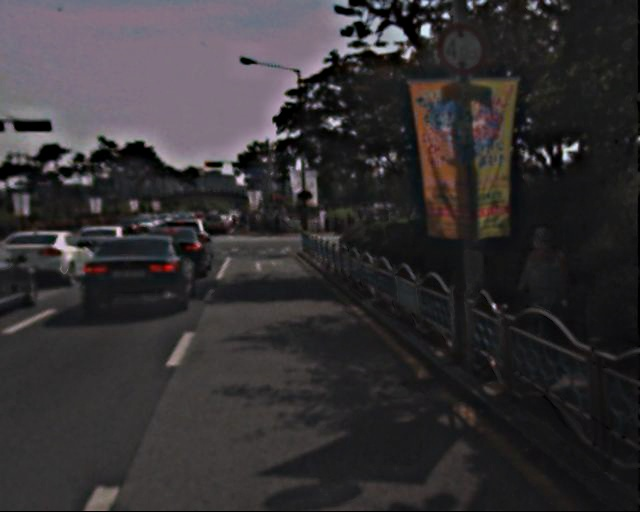person: (513, 223, 573, 371)
